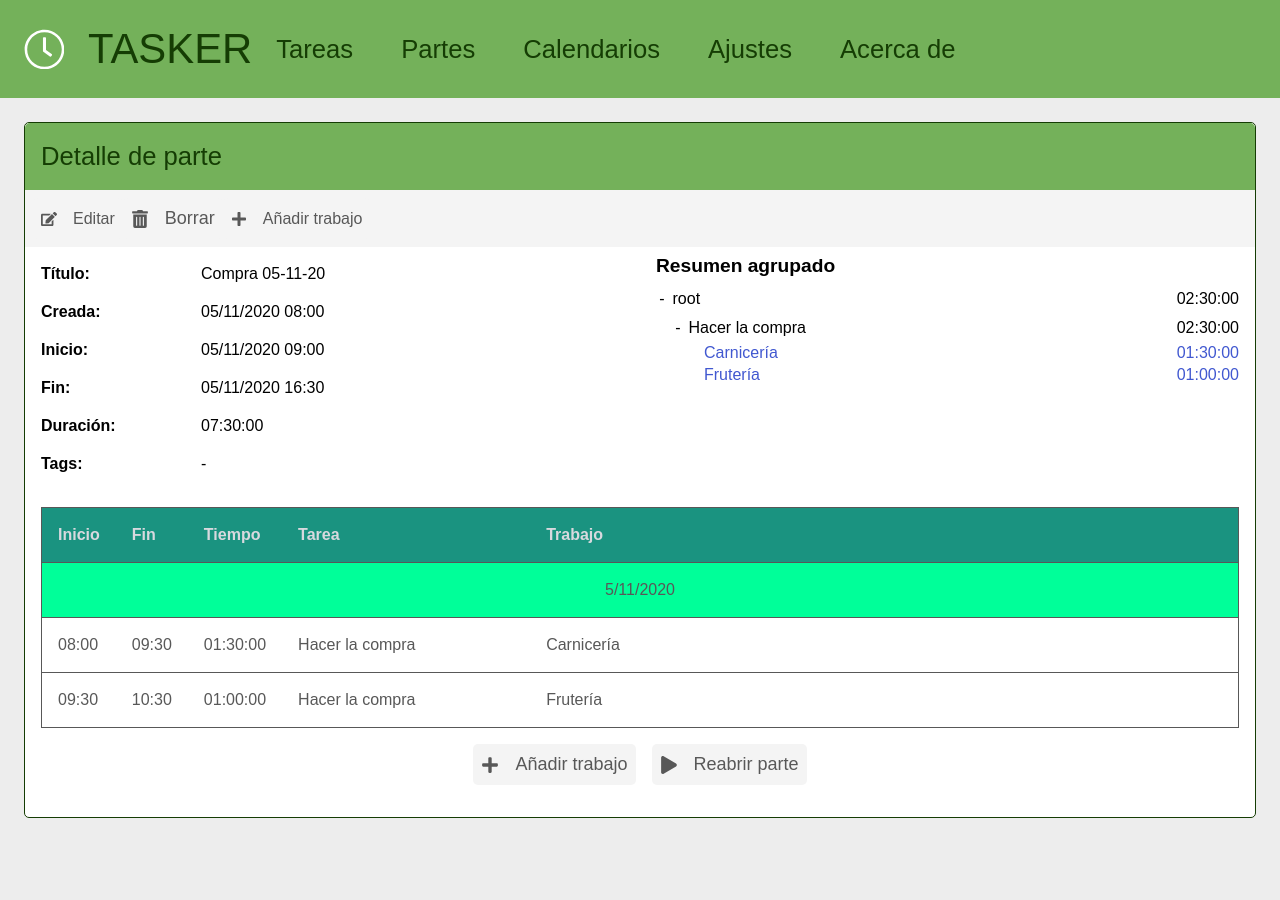
Test: Detalle de parte › El botón 'Borrar' muestra diálogo de confirmación
This screenshot has width=1280, height=900.
Click the button labelled "Borrar" at (173, 218), box [123, 198, 223, 239]
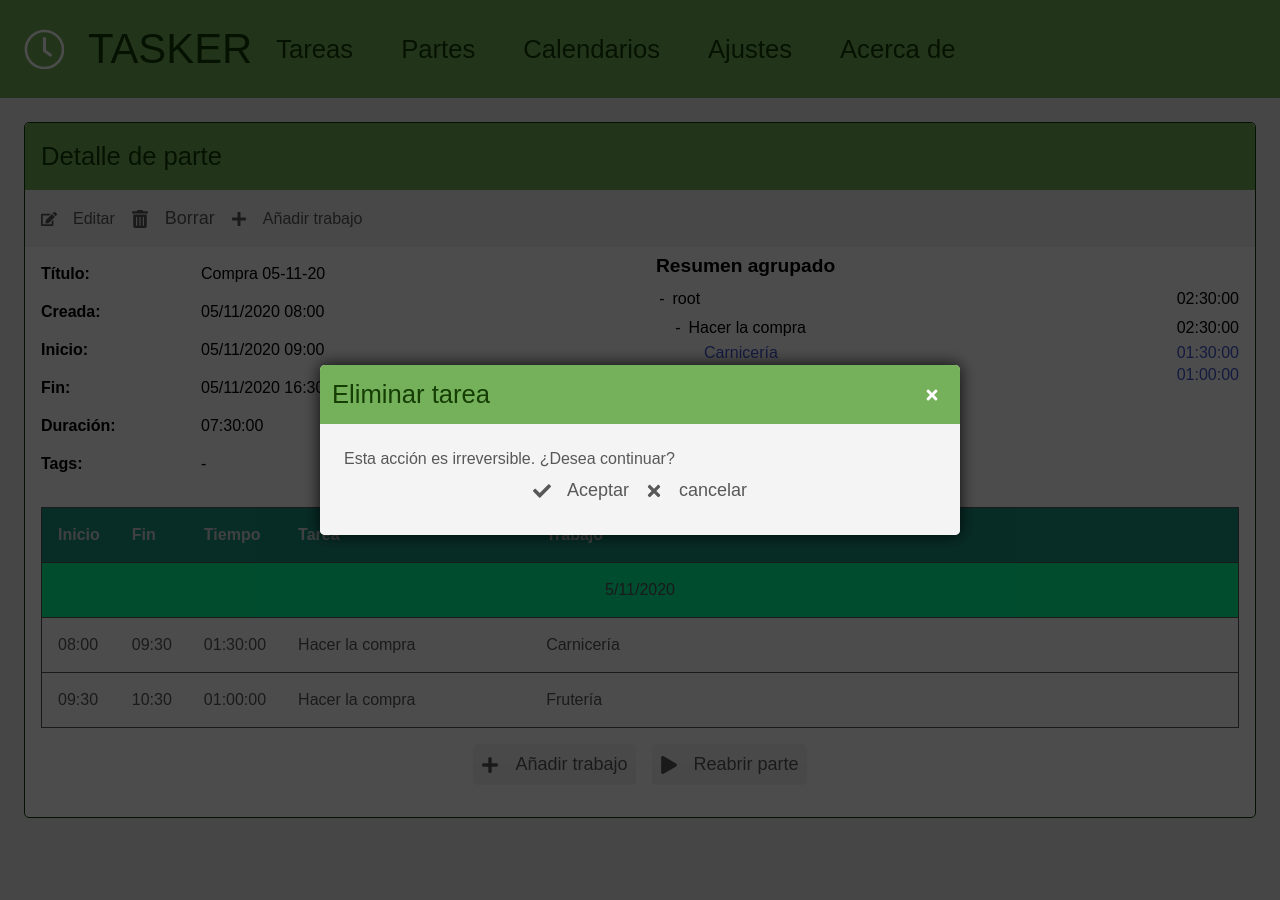
Expected: the text "Esta acción es irreversible. ¿Desea continuar?" is shown, [344, 450, 675, 467]
Expected: the button labelled "Aceptar" is shown, [525, 470, 637, 511]
Expected: the button labelled "cancelar" is shown, [637, 470, 755, 511]
